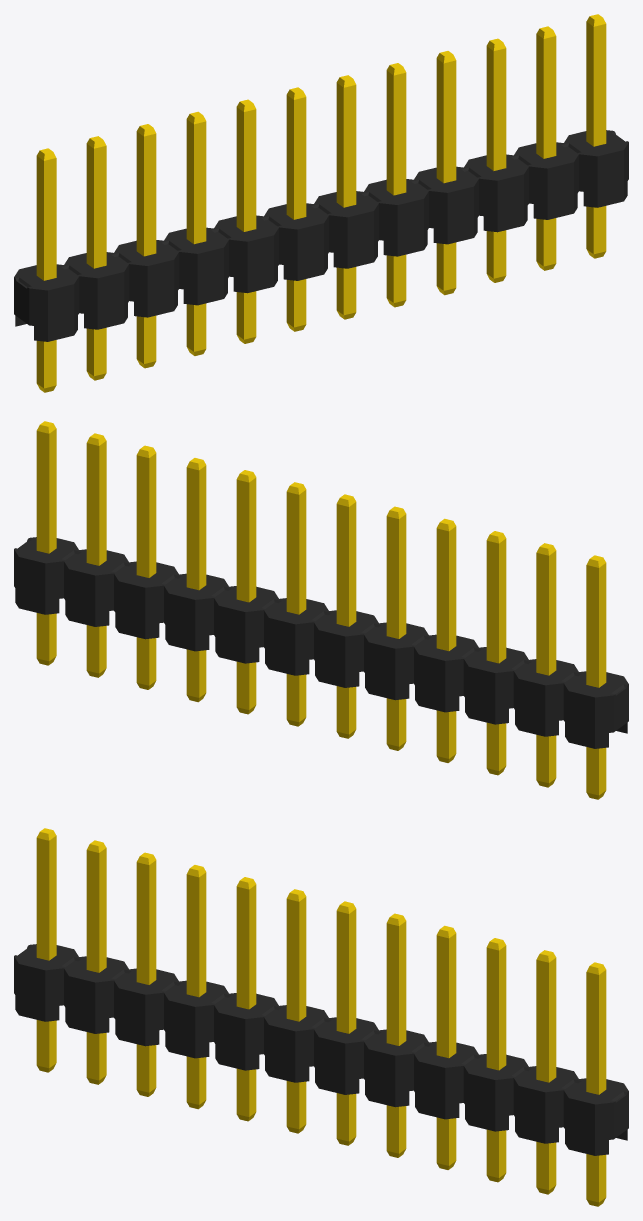
The model's file is PLS12.glb.
3 views of the same model, one above another, from view 1: azimuth 30°, elevation 25°; view 2: azimuth 150°, elevation 25°; view 3: azimuth 330°, elevation 25° (orthographic).
Parts seen in each view (by area): view 1: PLS (DS1021 CONNFLY); view 2: PLS (DS1021 CONNFLY); view 3: PLS (DS1021 CONNFLY).
Part boxes in pixels (x1,y1,x2,y2): PLS (DS1021 CONNFLY): [14, 14, 628, 392]; PLS (DS1021 CONNFLY): [14, 421, 628, 799]; PLS (DS1021 CONNFLY): [14, 828, 628, 1206].
Size of the model in its own units: 0.0305 by 0.0116 by 0.00254.
